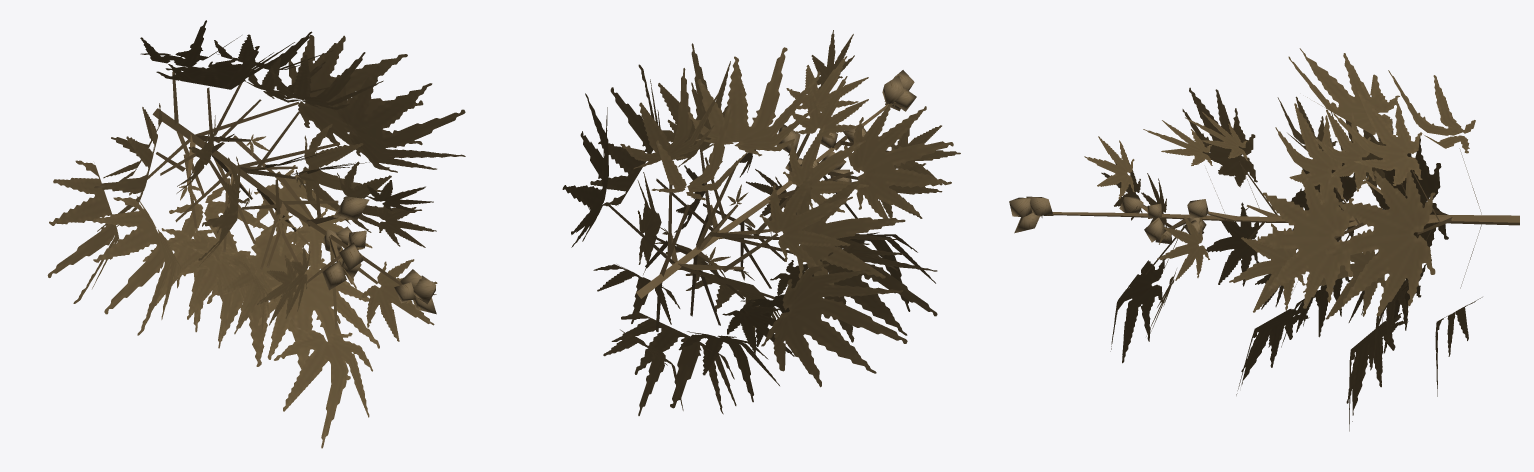
File: p_male_landrace_preflower_c3_cards.obj
The picture shows the model from 3 angles, left to right: view 1: azimuth 30°, elevation 25°; view 2: azimuth 150°, elevation 25°; view 3: azimuth 270°, elevation 25°; orthographic projection. The views are drawn at different scales.
Size of the model in its own units: 1.7 by 1.5 by 1.82.
Materials: 1 (1 with a texture image).
